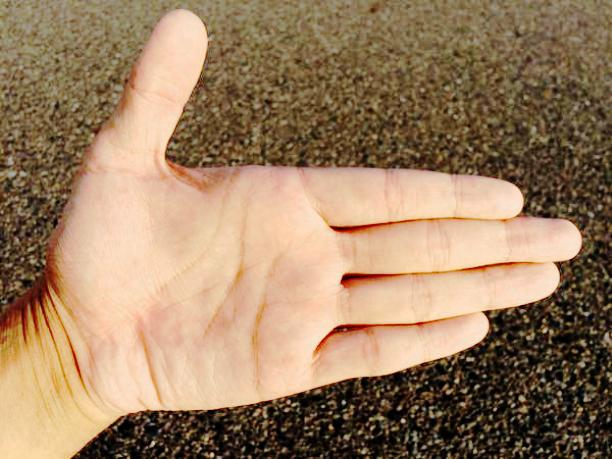Paper: (37, 7, 585, 418)
